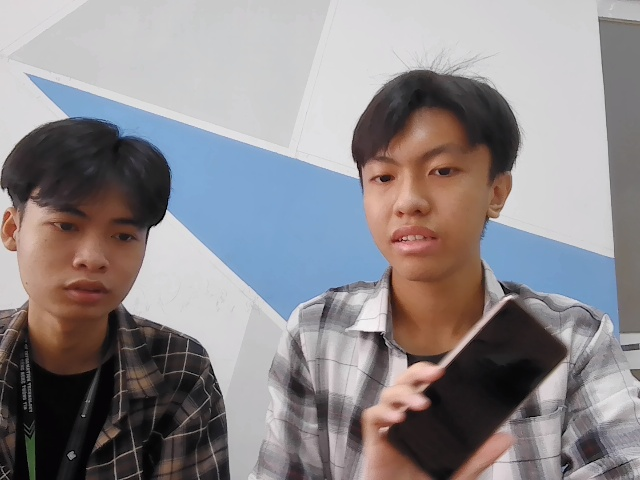human: (1, 115, 167, 322), (357, 65, 518, 277)
phone: (370, 295, 577, 475)
